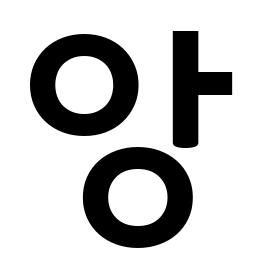Gaji: (153, 57, 216, 112)
